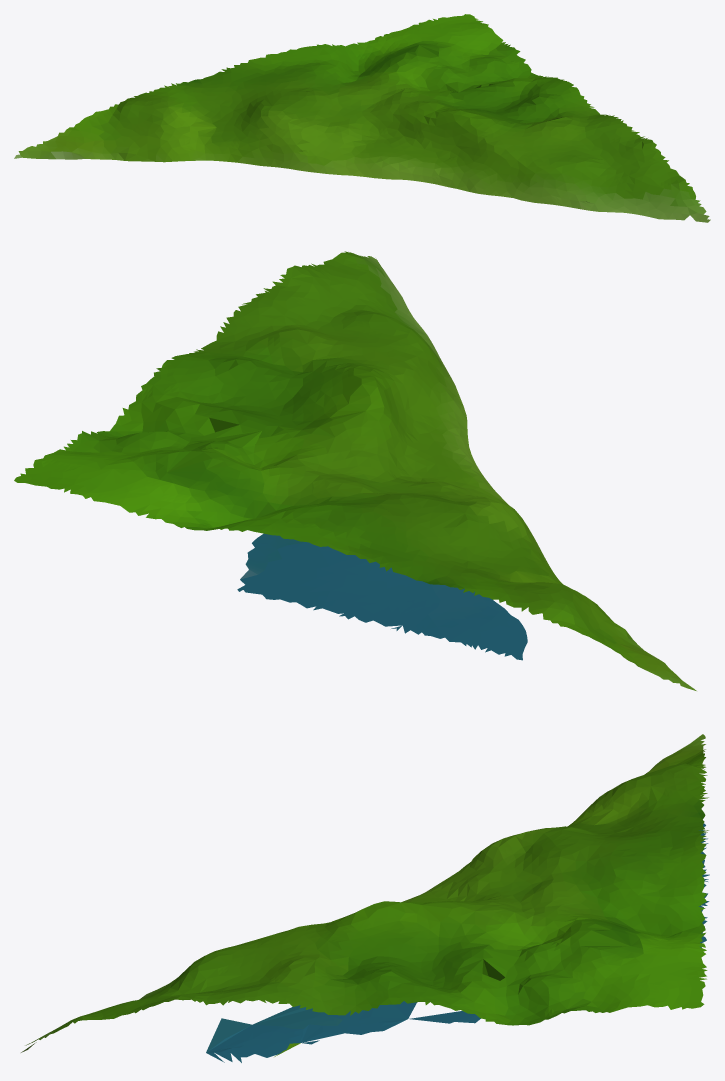
Rendered from chunk_0_3_LOD0.glb.
3 views of the same model, one above another, from view 1: azimuth 30°, elevation 25°; view 2: azimuth 150°, elevation 25°; view 3: azimuth 270°, elevation 25° (orthographic). The views are drawn at different scales.
Parts seen in each view (by area): view 1: world; view 2: world; view 3: world.
Part boxes in pixels (x1,y1,x2,y2): world: (14,14,710,222); world: (14,251,696,690); world: (21,734,709,1062).
Bounding box in the file's own units: 71.22 × 6.91 × 63.79.
Materials: 1 (1 with a texture image).
